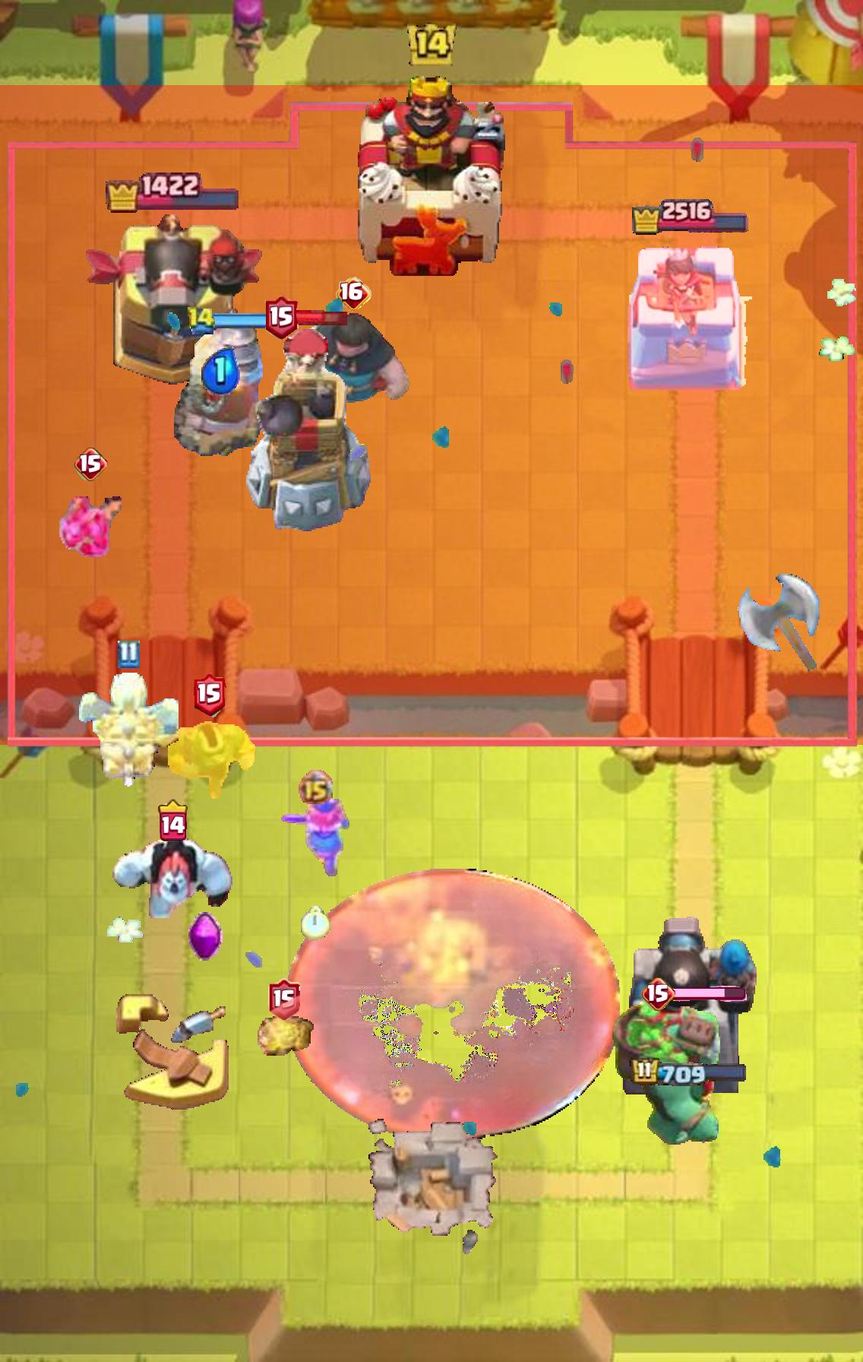bar: (671, 985, 747, 1003), (295, 308, 348, 328)
bar-level: (265, 295, 299, 340), (193, 672, 226, 717), (268, 978, 300, 1020), (158, 798, 188, 841), (336, 277, 372, 312), (74, 448, 108, 482), (641, 977, 675, 1011)
